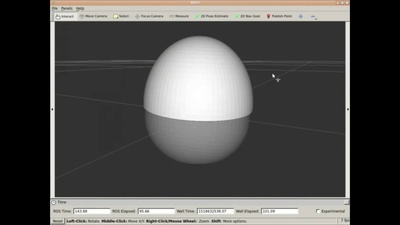mira_robot: (143, 35, 254, 165)
